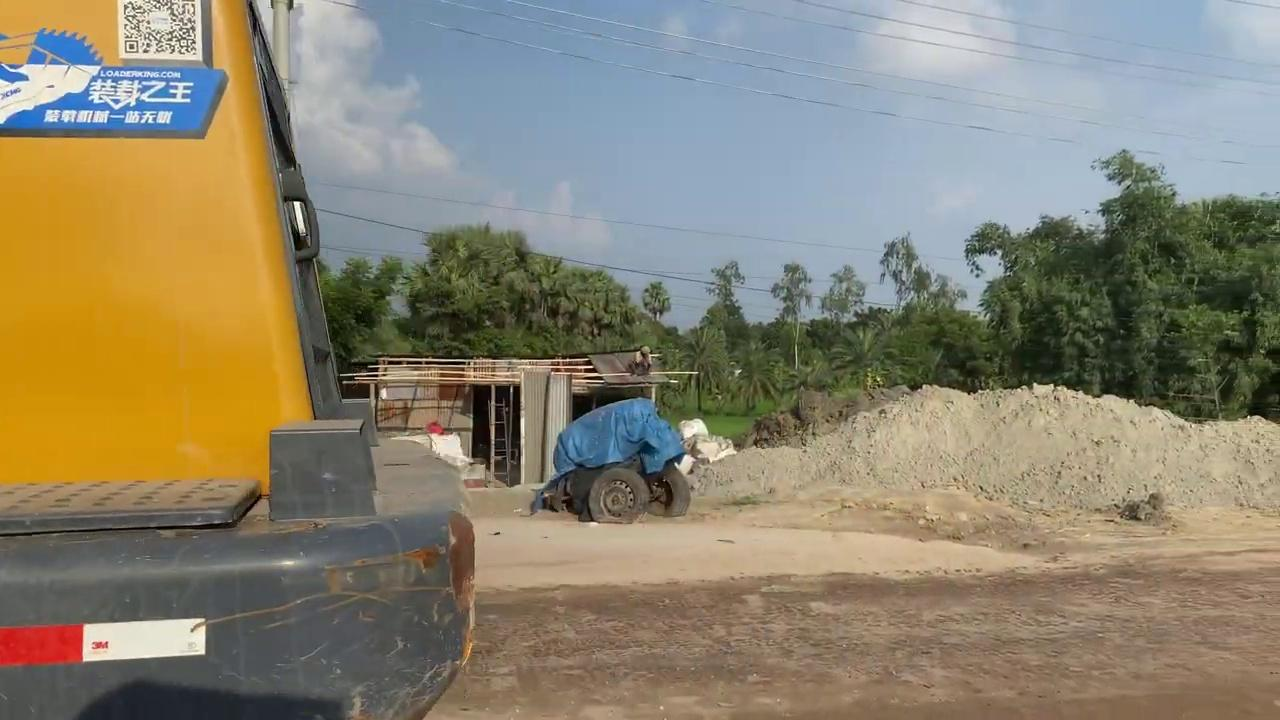Garbage: (780, 386, 1280, 540)
Tree: (0, 0, 478, 718), (546, 409, 716, 535)
